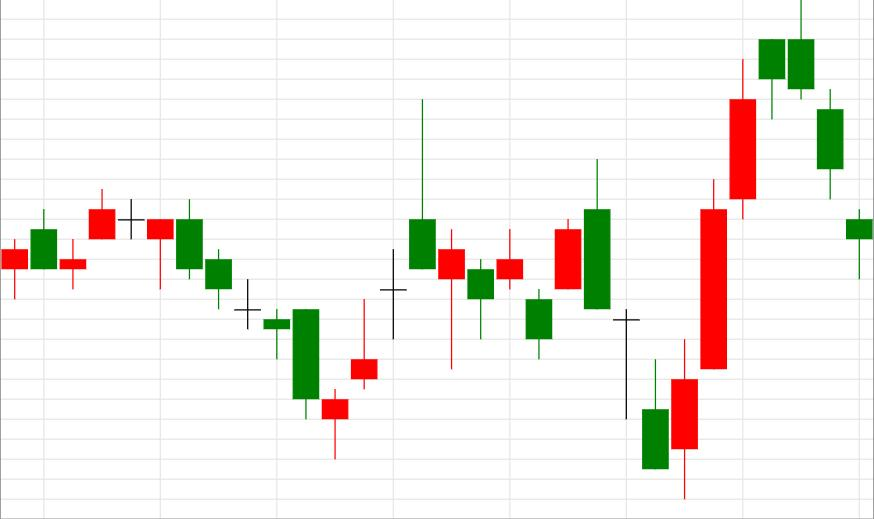shooting_star_fall: (322, 100, 435, 460)
three_white_soldiers_rise: (584, 59, 757, 498)
